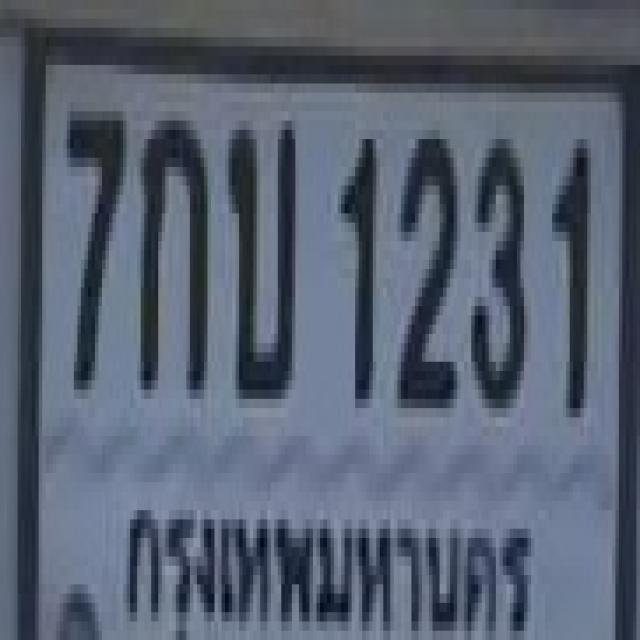1: (549, 130, 587, 408), (338, 125, 372, 394)
2: (394, 120, 454, 399)
3: (468, 130, 524, 399)
7: (63, 97, 123, 376)
A01: (137, 107, 204, 385)
A26: (226, 111, 294, 390)
BKK: (114, 487, 537, 640)
